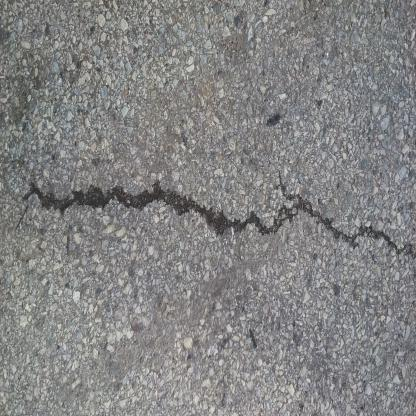Cracks: (17, 167, 415, 263)
